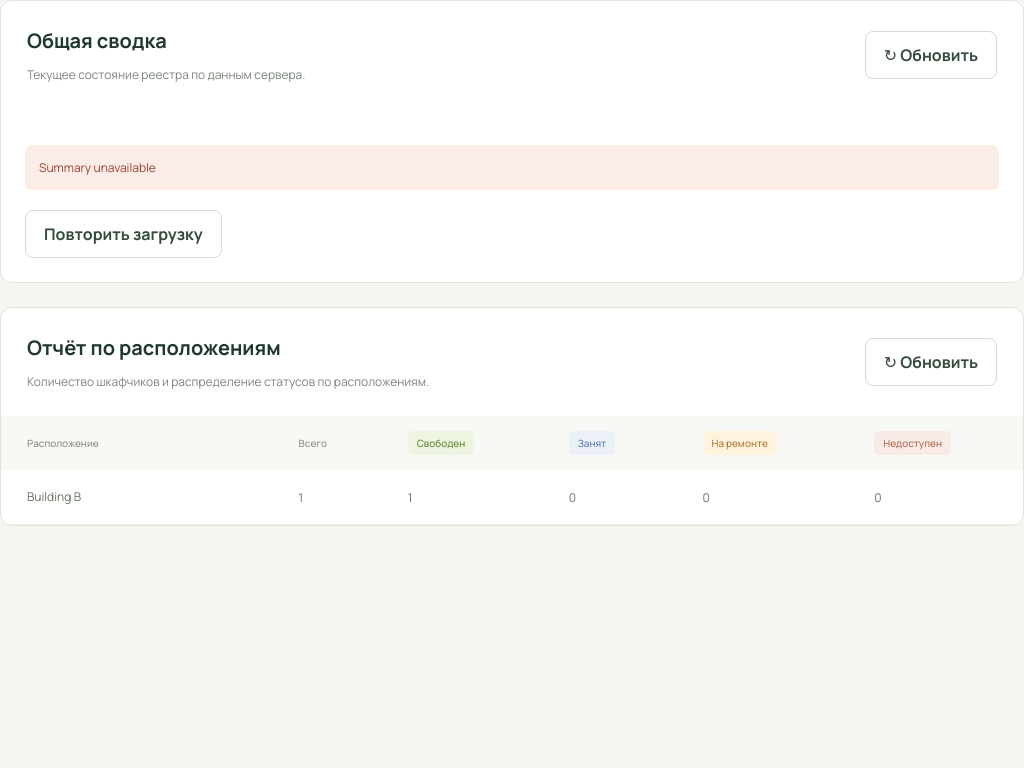
Test case: reports › keeps locations usable if summary fails and retries only summary
The width and height of the screenshot is (1024, 768).
Expected: the message reads "Summary unavailable", [39, 159, 156, 176]
Expected: the text "Building B" is shown, [1, 470, 273, 524]
Click the button "Повторить загрузку" at (123, 234), box [25, 210, 222, 258]
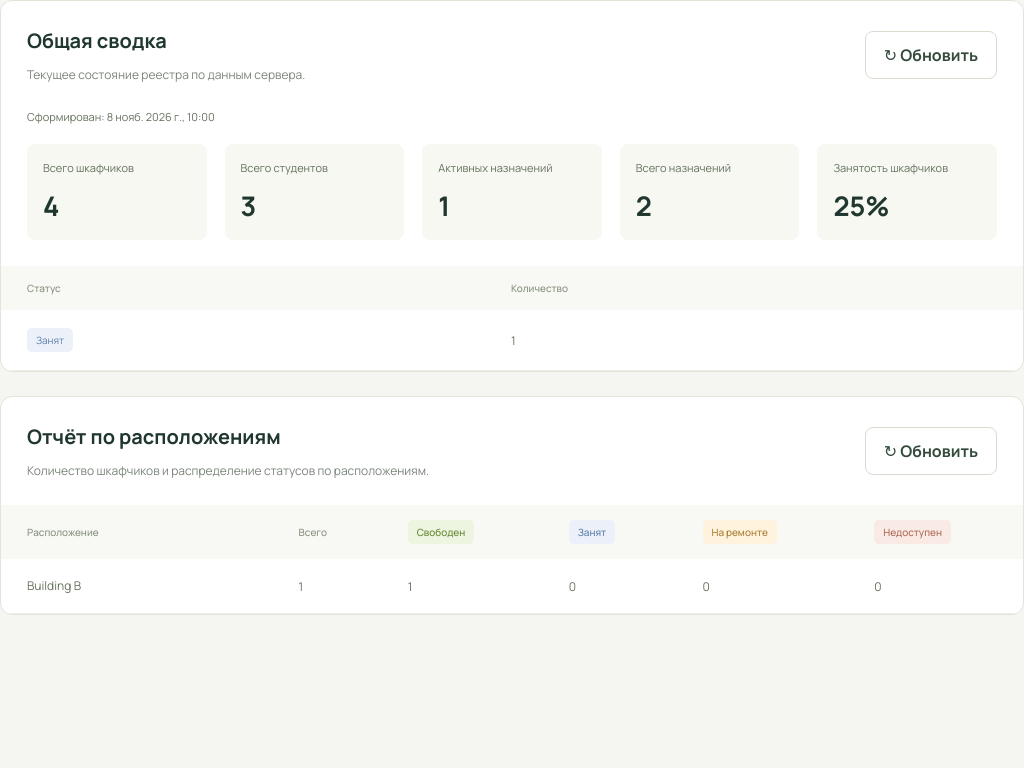
Result: the text "25%" is shown at [833, 187, 890, 224]
